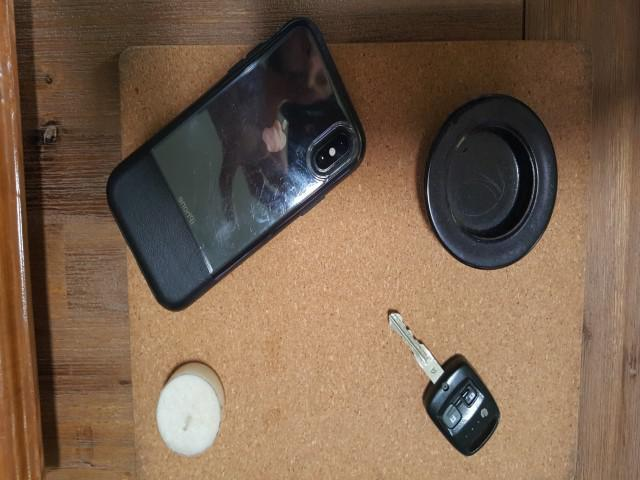key: (385, 309, 499, 480)
